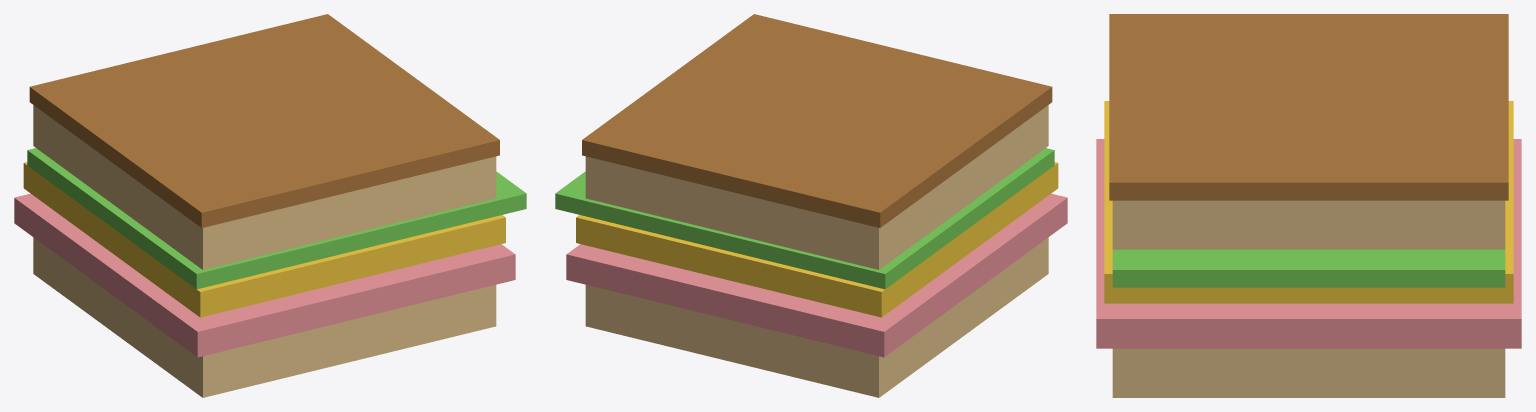
The model's file is dog_sandwich.glb.
3 views of the same model, side by side, from view 1: azimuth 30°, elevation 25°; view 2: azimuth 150°, elevation 25°; view 3: azimuth 270°, elevation 25° (orthographic). The views are drawn at different scales.
Visible parts, largest first — view 1: food_crust, food_bread, food_ham, food_cheese, food_lettuce; view 2: food_crust, food_bread, food_ham, food_cheese, food_lettuce; view 3: food_crust, food_bread, food_ham, food_lettuce, food_cheese.
Boxes of the visible parts, box(x1,y1,x2,y2) form: food_crust: box(29, 14, 499, 227); food_bread: box(33, 105, 496, 397); food_ham: box(14, 193, 515, 357); food_cheese: box(23, 162, 505, 317); food_lettuce: box(27, 148, 526, 289); food_crust: box(582, 14, 1052, 227); food_bread: box(585, 105, 1048, 397); food_ham: box(566, 193, 1067, 357); food_cheese: box(576, 162, 1058, 317); food_lettuce: box(555, 148, 1054, 289); food_crust: box(1109, 14, 1508, 200); food_bread: box(1112, 200, 1505, 397); food_ham: box(1096, 139, 1521, 348); food_lettuce: box(1112, 249, 1505, 287); food_cheese: box(1104, 101, 1513, 303).
Bounding box in the file's own units: 0.1375 × 0.073 × 0.13.
